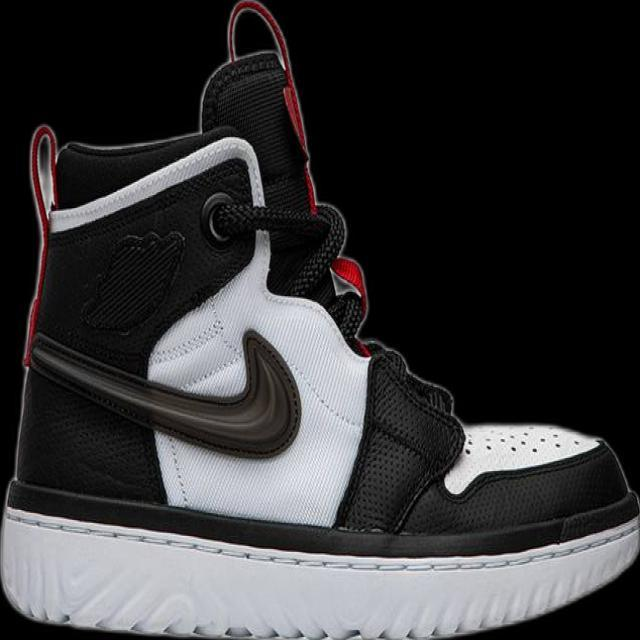J1_ShoeLogo: (0, 0, 639, 639)
J1_StitchPattern: (22, 323, 608, 529), (0, 489, 639, 638), (1, 502, 639, 576), (26, 324, 303, 459), (335, 338, 465, 534), (441, 419, 603, 497), (78, 226, 187, 335), (207, 196, 329, 245), (461, 421, 595, 460), (149, 313, 229, 367)
